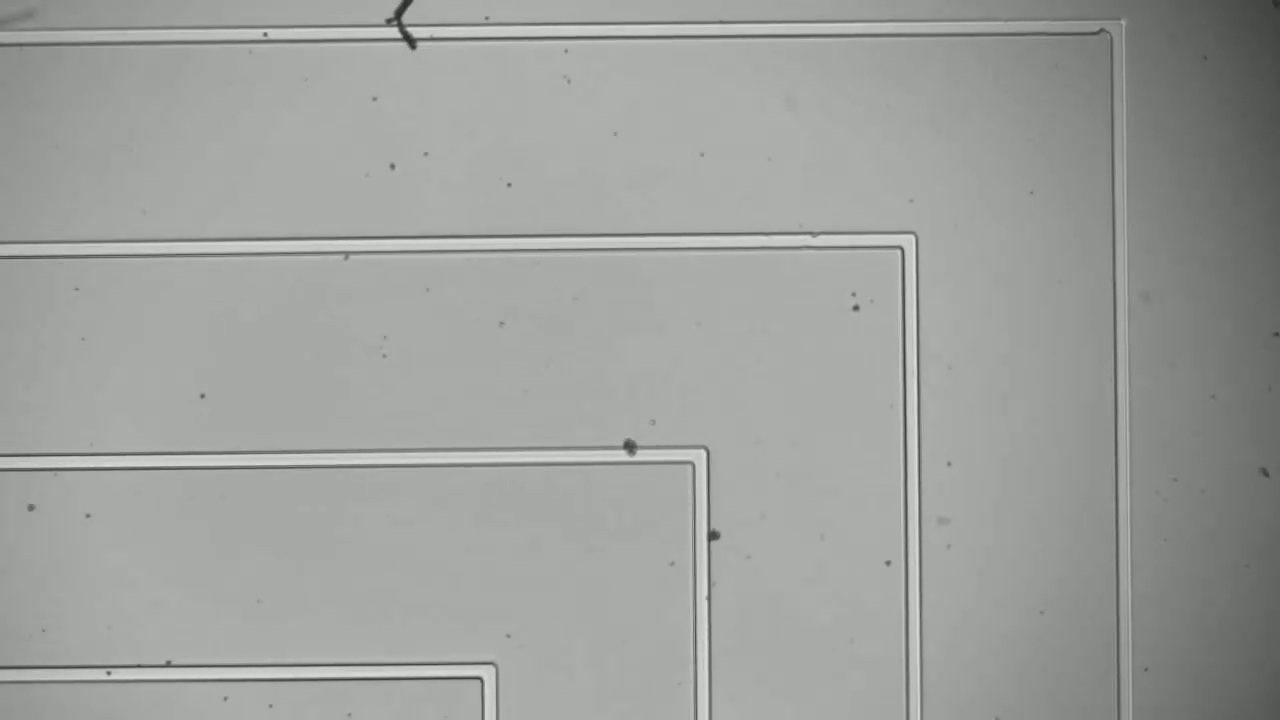edge_bite: (1086, 12, 1117, 43)
stains_enbedded: (615, 430, 649, 470)
